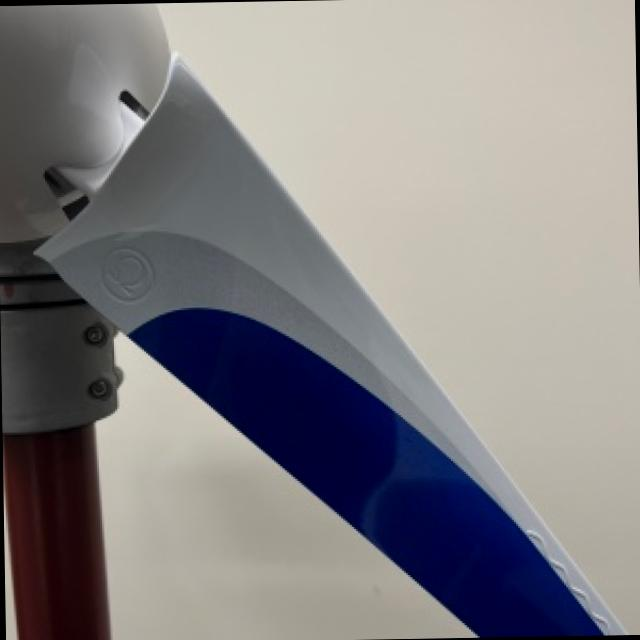healthy: (98, 334, 473, 640)
